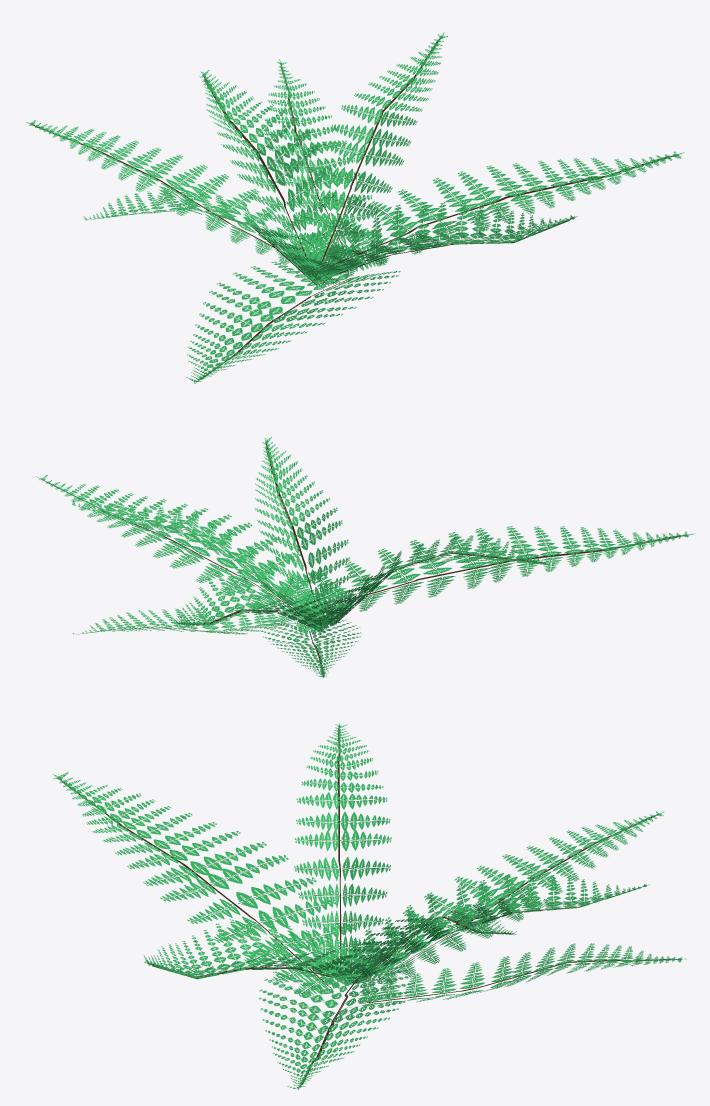
File: fern_4.fbx
3 renders of one model, top to bottom at view 1: azimuth 30°, elevation 25°; view 2: azimuth 150°, elevation 25°; view 3: azimuth 270°, elevation 25°, orthographic. The views are drawn at different scales.
Parts seen in each view (by area): view 1: fern_4; view 2: fern_4; view 3: fern_4.
Boxes of the visible parts, left/top/right/bottom form: fern_4: left=26, top=32, right=684, bottom=383; fern_4: left=36, top=437, right=693, bottom=677; fern_4: left=53, top=723, right=686, bottom=1089.
Bounding box in the file's own units: 429 × 104 × 377.
Materials: 1 (1 with a texture image).
